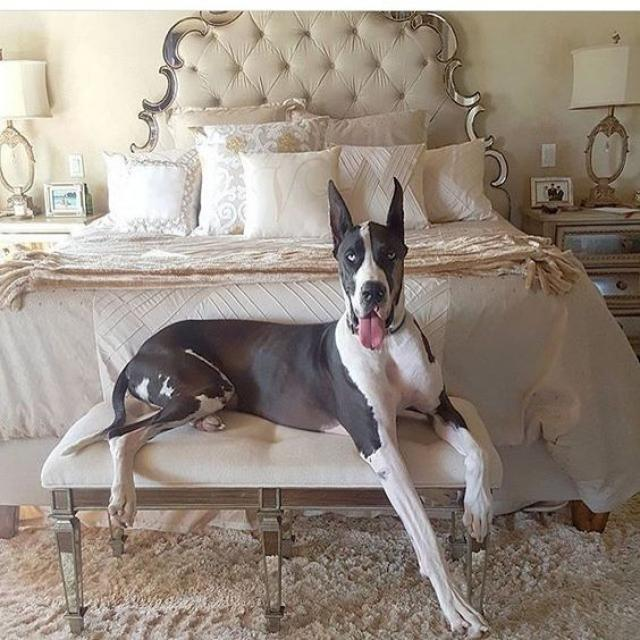Dogs: (60, 175, 501, 640)
